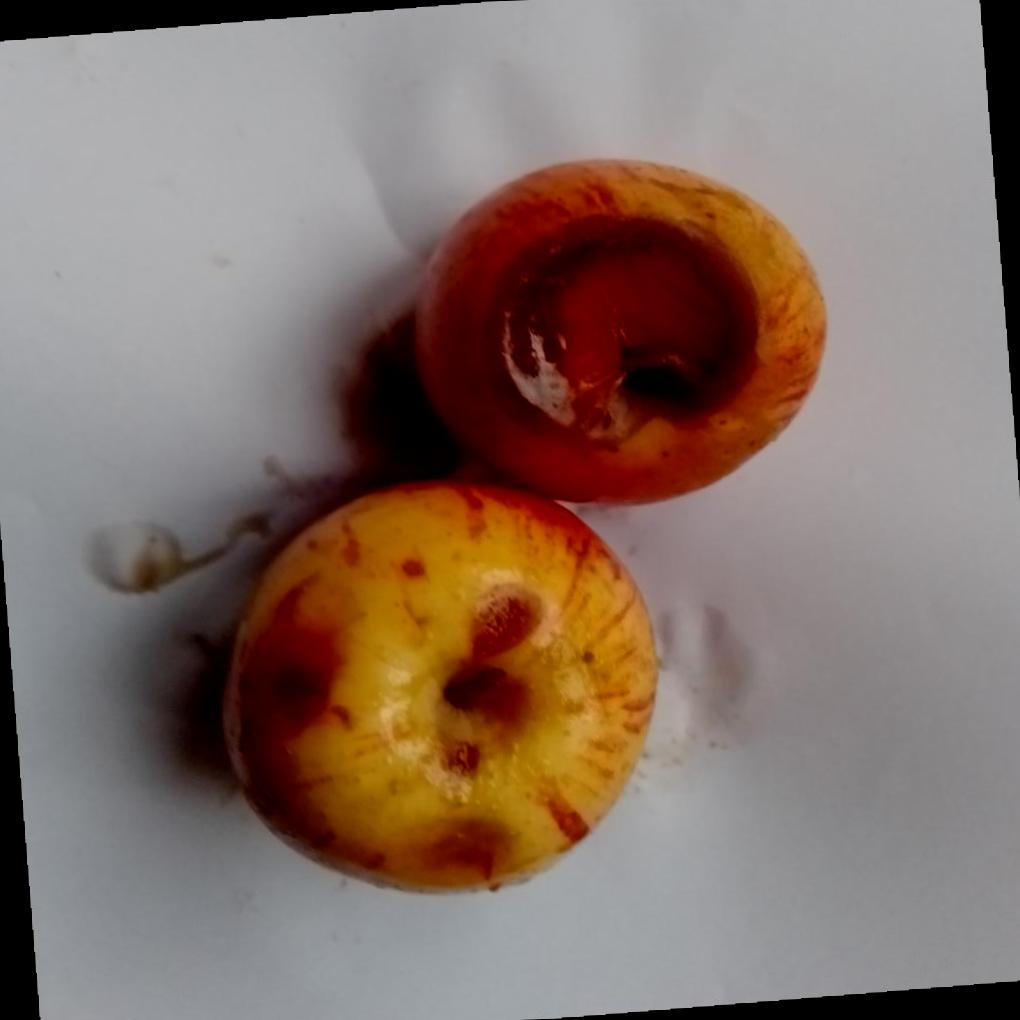FreshOrange: (221, 155, 832, 897)
